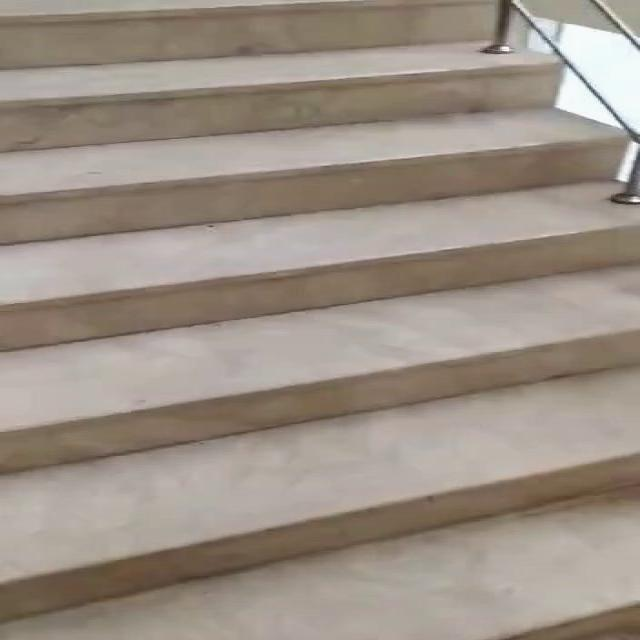stair: (6, 6, 631, 630)
